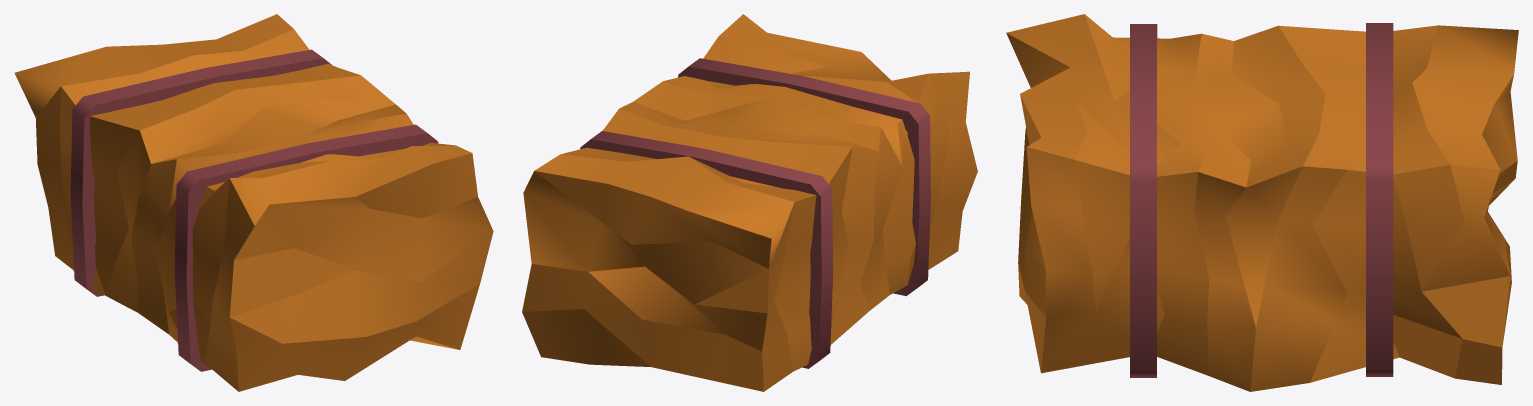
Rendered from Hay_5.fbx.
3 views of the same model, side by side, from view 1: azimuth 30°, elevation 25°; view 2: azimuth 150°, elevation 25°; view 3: azimuth 270°, elevation 25° (orthographic). The views are drawn at different scales.
Parts seen in each view (by area): view 1: Hay_5; view 2: Hay_5; view 3: Hay_5.
Part boxes in pixels (bbox=[...]): Hay_5: bbox=[14, 14, 493, 391]; Hay_5: bbox=[522, 14, 977, 391]; Hay_5: bbox=[1006, 14, 1518, 391].
Bounding box in the file's own units: 22.99 × 17.16 × 31.82.
